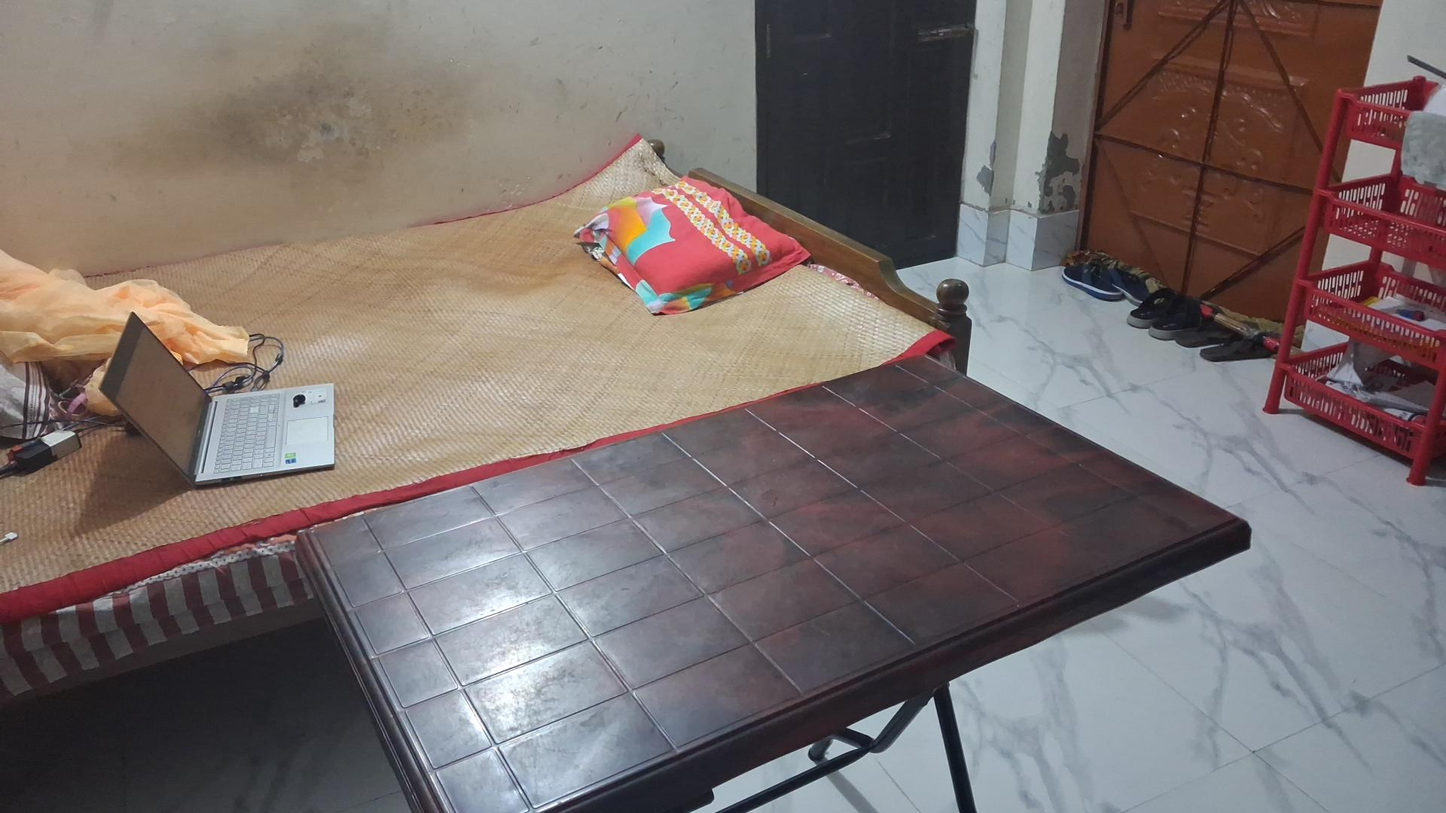Footwear: (1123, 293, 1216, 339), (1172, 321, 1272, 362), (1062, 262, 1152, 305)
Laptop: (96, 312, 336, 487)
Pillow: (571, 173, 810, 314)
Rack: (1264, 74, 1446, 487)
Table: (302, 356, 1254, 813)
